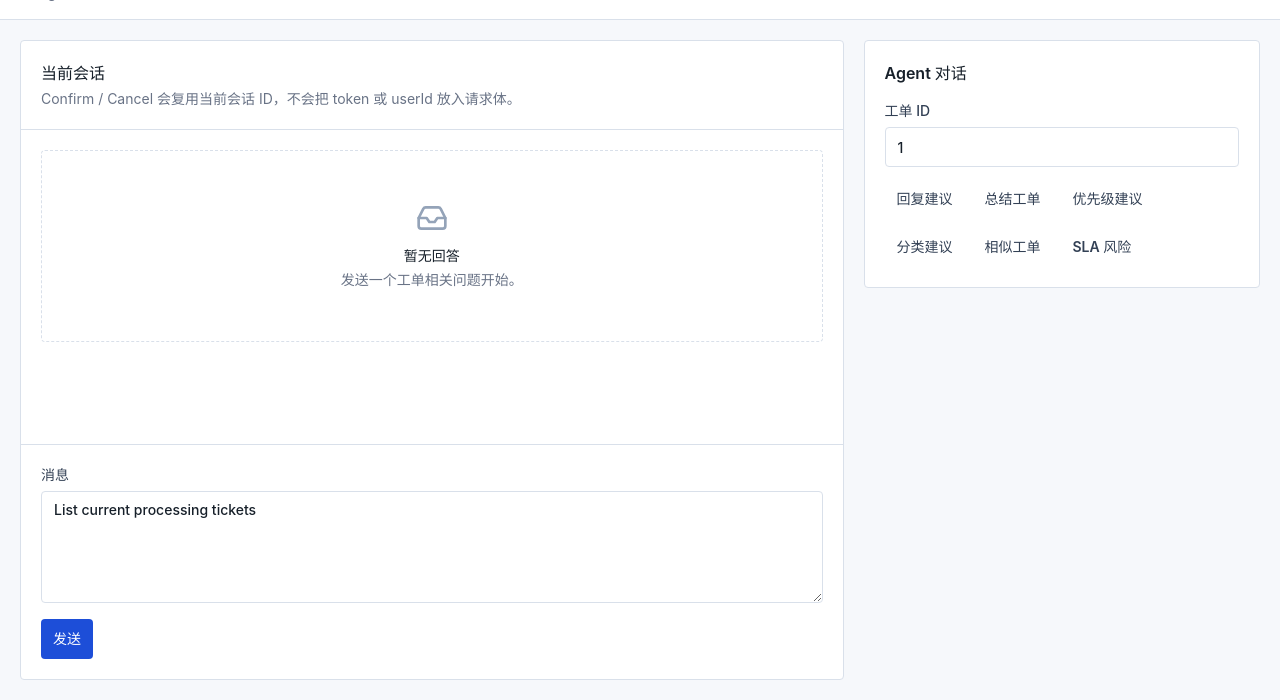
it: AiPage › renders normal answers as chat history without confirm controls
(page scrolled)
Click the button "发送": (67, 639) [41, 619, 93, 659]
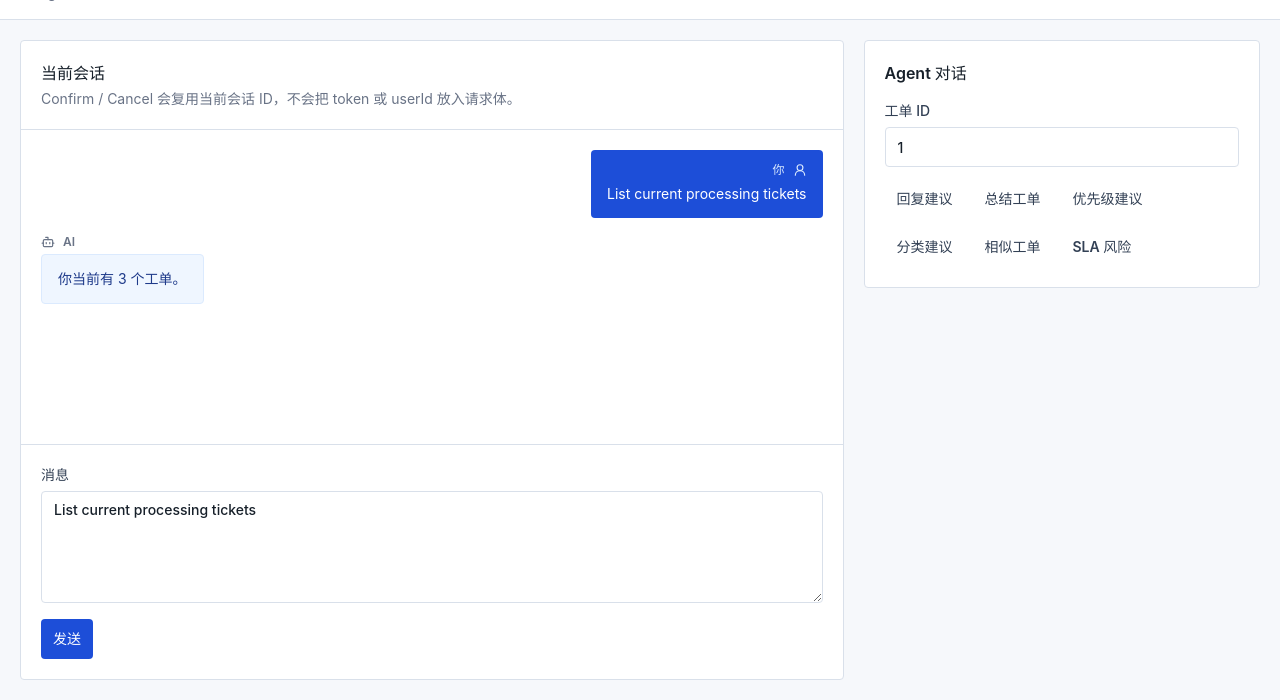
Expected: the text "List current processing tickets" is shown, [607, 182, 806, 206]
Expected: the text "你当前有 3 个工单。" is shown, [58, 267, 186, 291]
